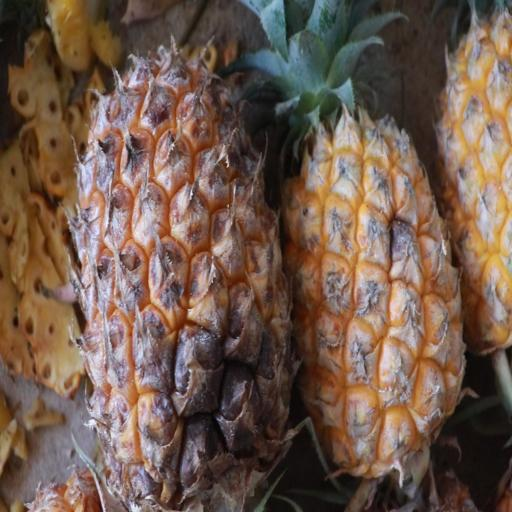Pineapple - v8 v1: (72, 37, 299, 512), (278, 26, 470, 488)
